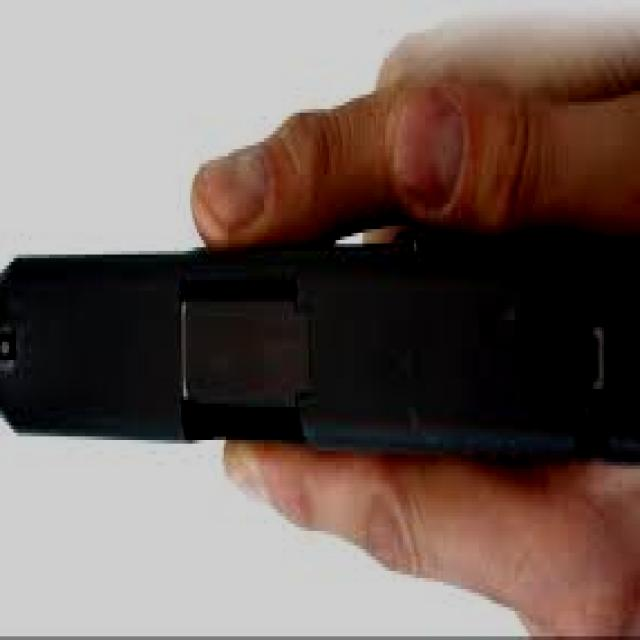pistol: (7, 222, 640, 451)
